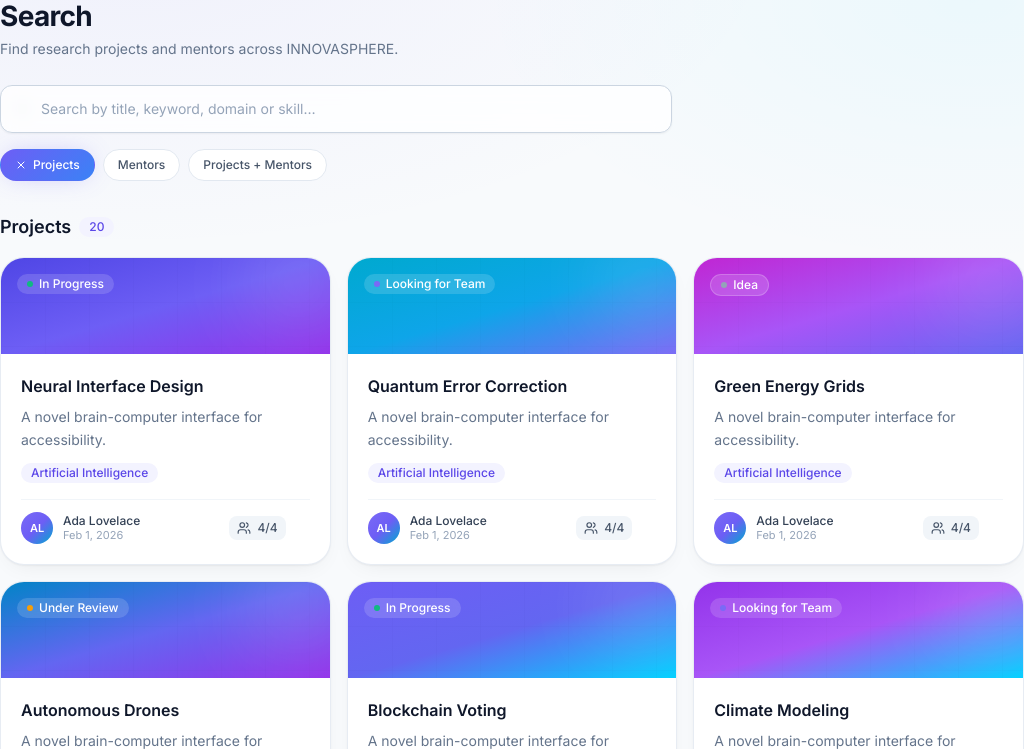
SearchPage › shows empty results across projects and mentors when nothing matches
Click the button "Projects + Mentors": (258, 165) [188,149,327,181]
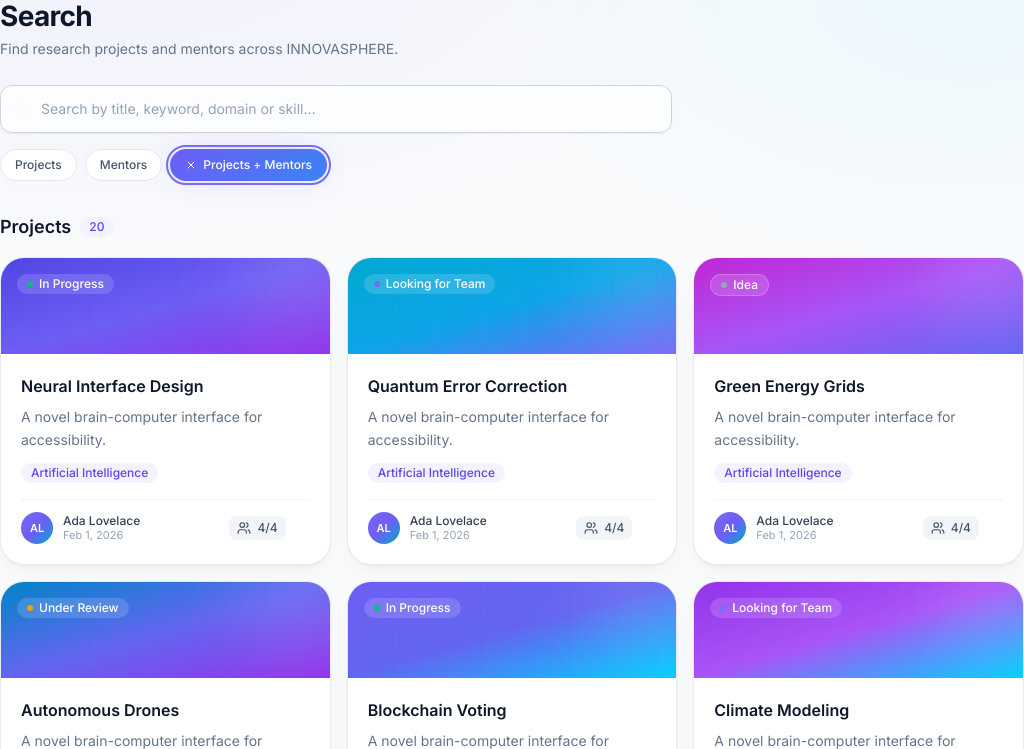
In the search field named "Search INNOVASPHERE": (336, 109) [0,85,672,133], type "zzz-no-result"
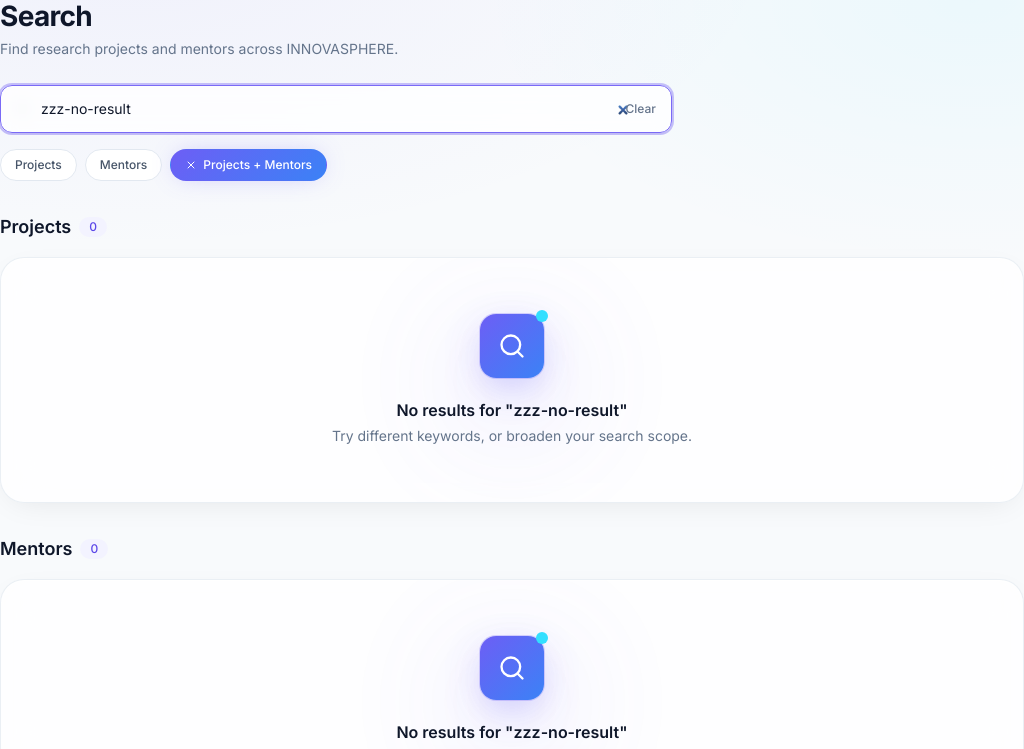
Expected: the number of headings "No results for \"zzz-no-result\"" is 2, [396,398,628,422]; [396,720,628,744]
